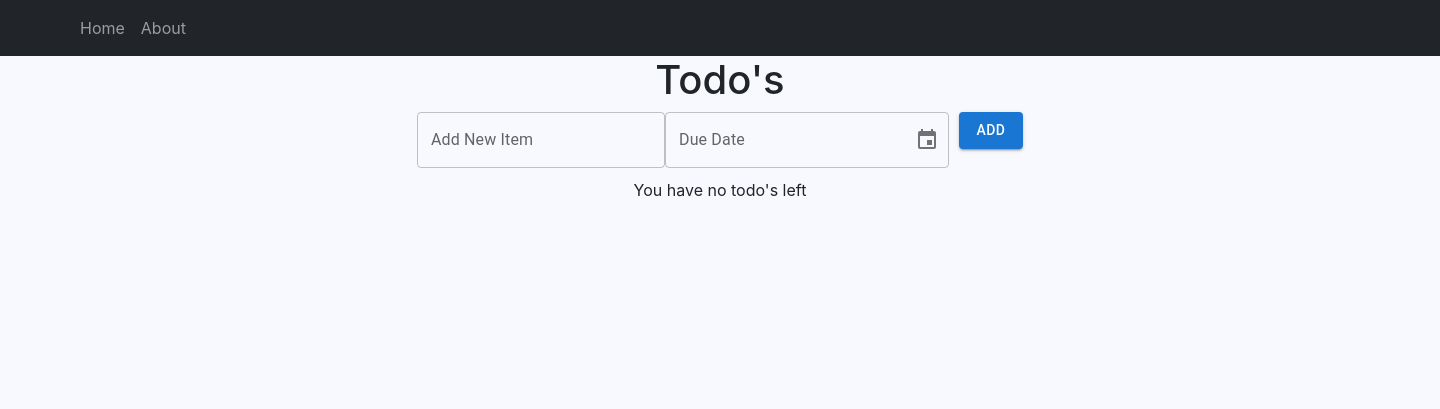
Scenario: test that App component renders different colors for past due events
The width and height of the screenshot is (1440, 409).
# create a future task
Type "History Test" into the field labelled "Add New Item" at (541, 140), box [417,112,665,168]
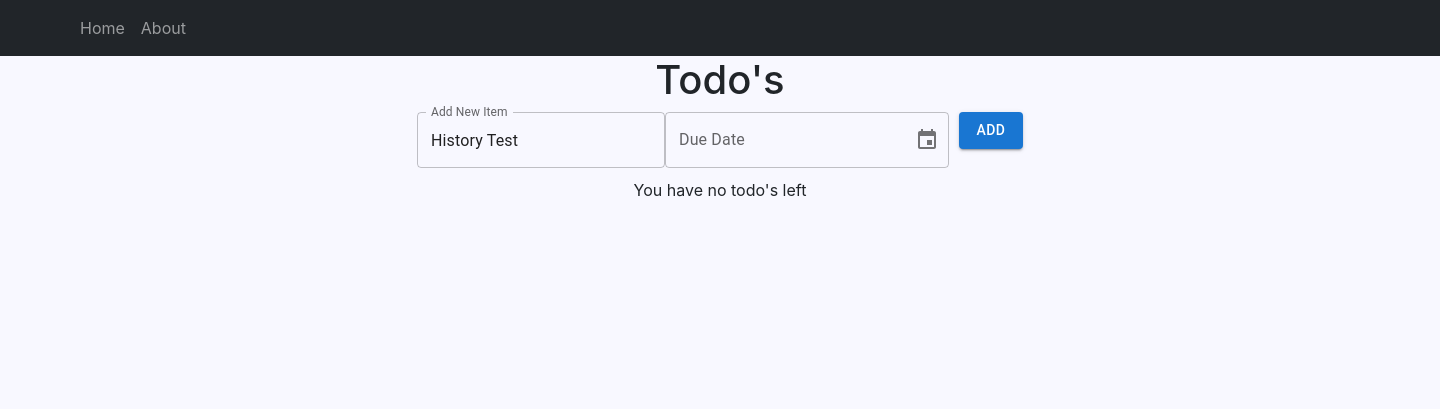
Type "05/30/2025" into the field with placeholder "mm/dd/yyyy" at (782, 140), box [665,112,899,168]
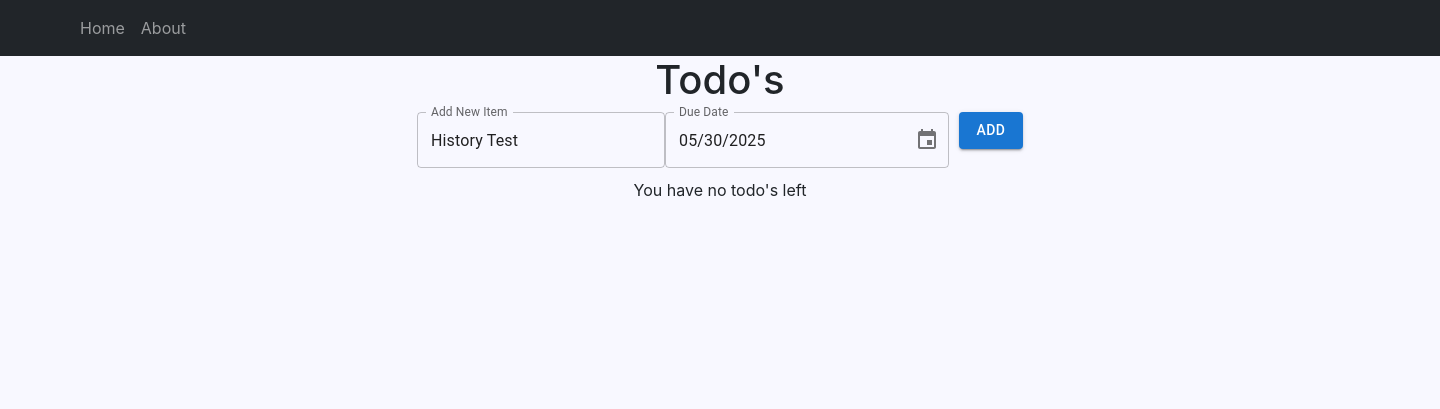
Click the button "Add" at (991, 130), box [959,112,1023,148]
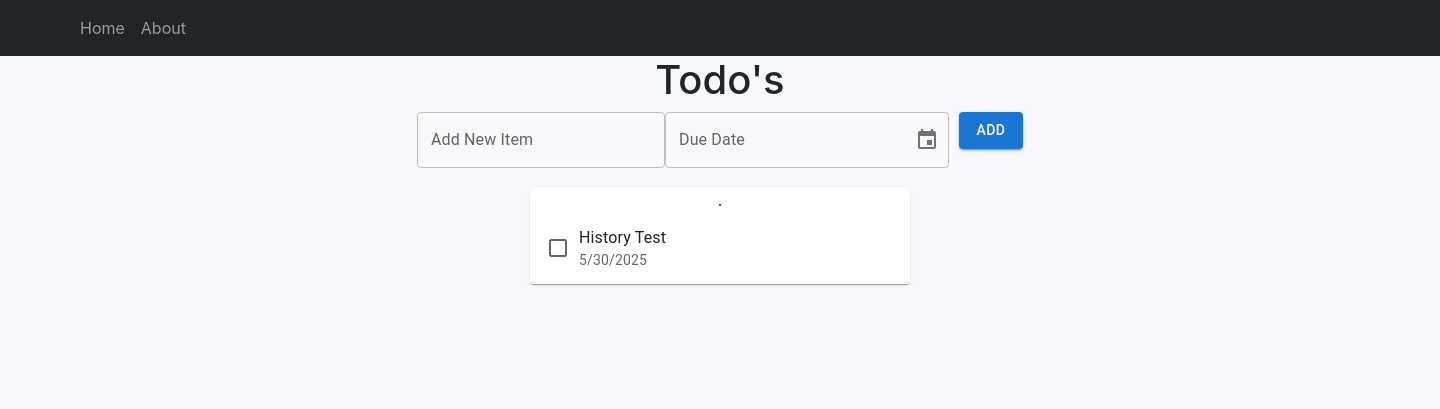
# create an out of date task
Type "Math Test" into the field labelled "Add New Item" at (541, 140), box [417,112,665,168]
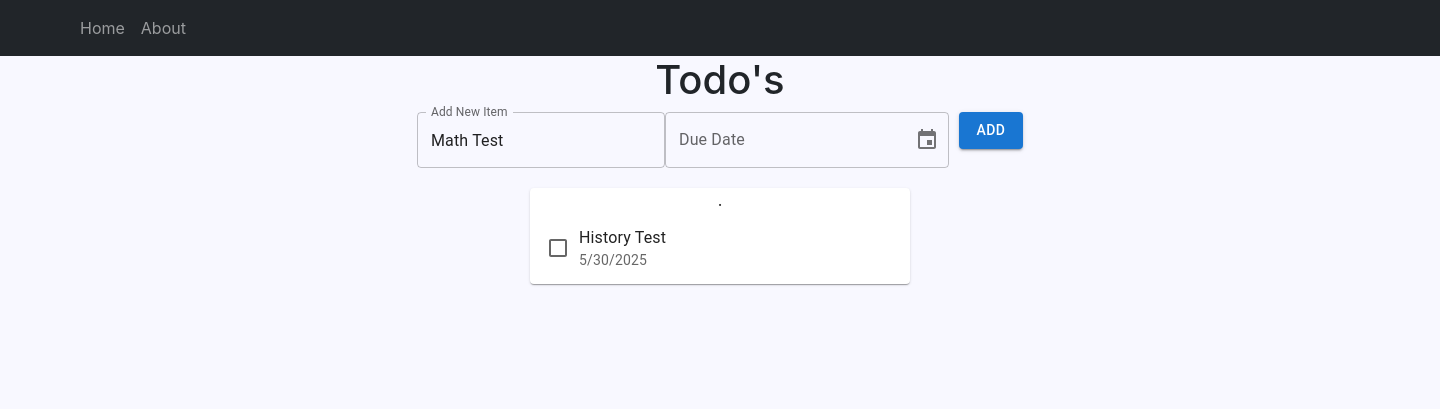
Type "05/30/2023" into the field with placeholder "mm/dd/yyyy" at (782, 140), box [665,112,899,168]
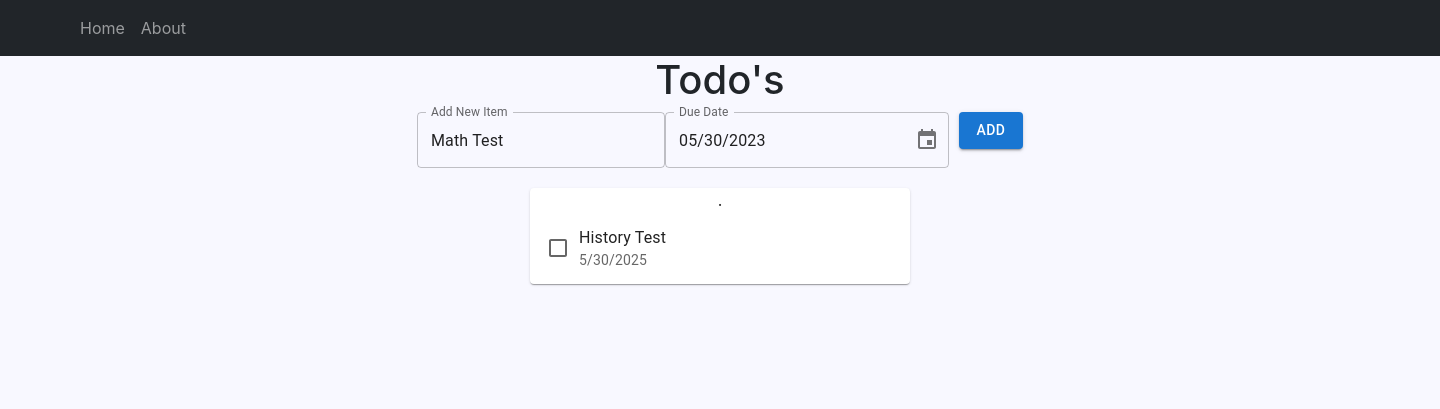
Click the button "Add" at (991, 130), box [959,112,1023,148]
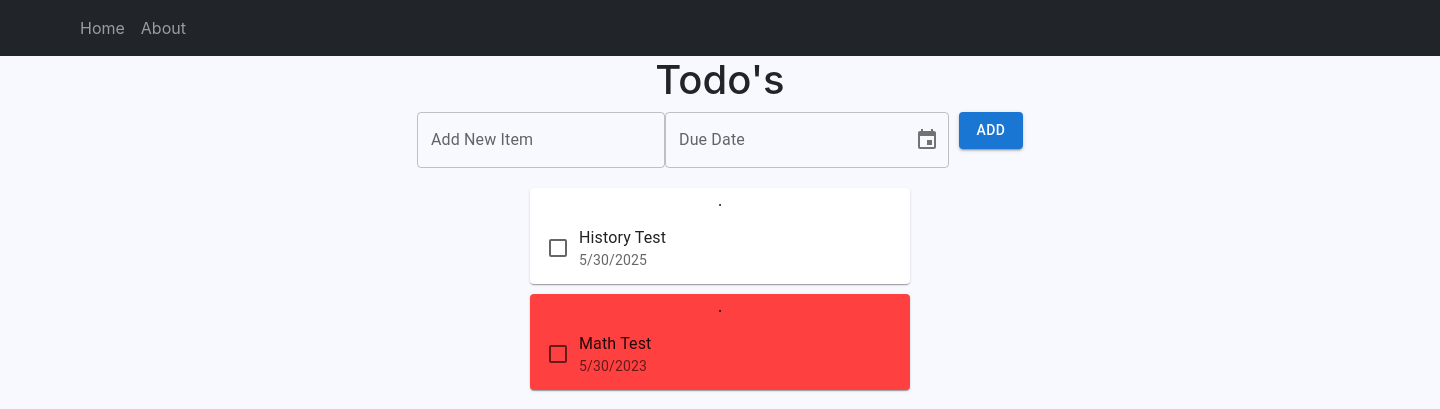
Result: the element with test id "History Test" is shown at [530,188,910,284]
Result: the element with test id "Math Test" is shown at [530,294,910,390]
